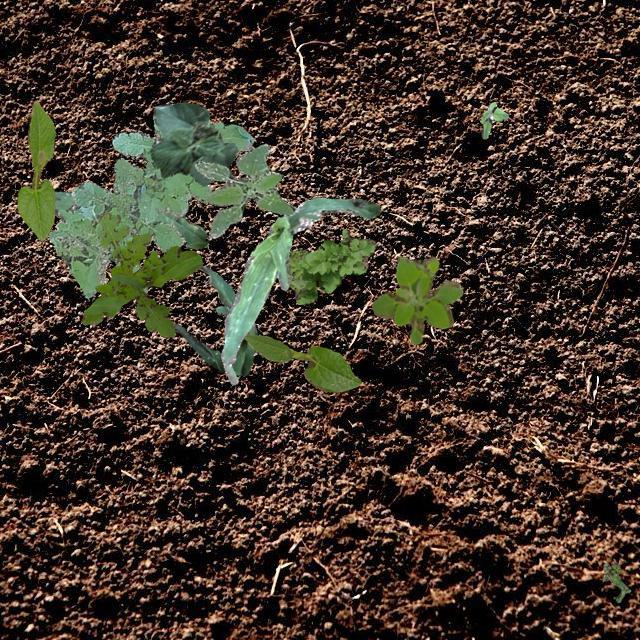crop: (220, 196, 380, 384), (174, 264, 256, 374), (148, 100, 235, 184), (244, 332, 360, 392), (16, 100, 54, 240), (52, 190, 176, 230), (162, 212, 206, 250)
weed: (49, 116, 252, 298), (80, 210, 202, 336), (194, 142, 294, 236), (370, 255, 462, 342), (286, 228, 374, 304), (602, 560, 630, 602), (480, 100, 508, 138)
